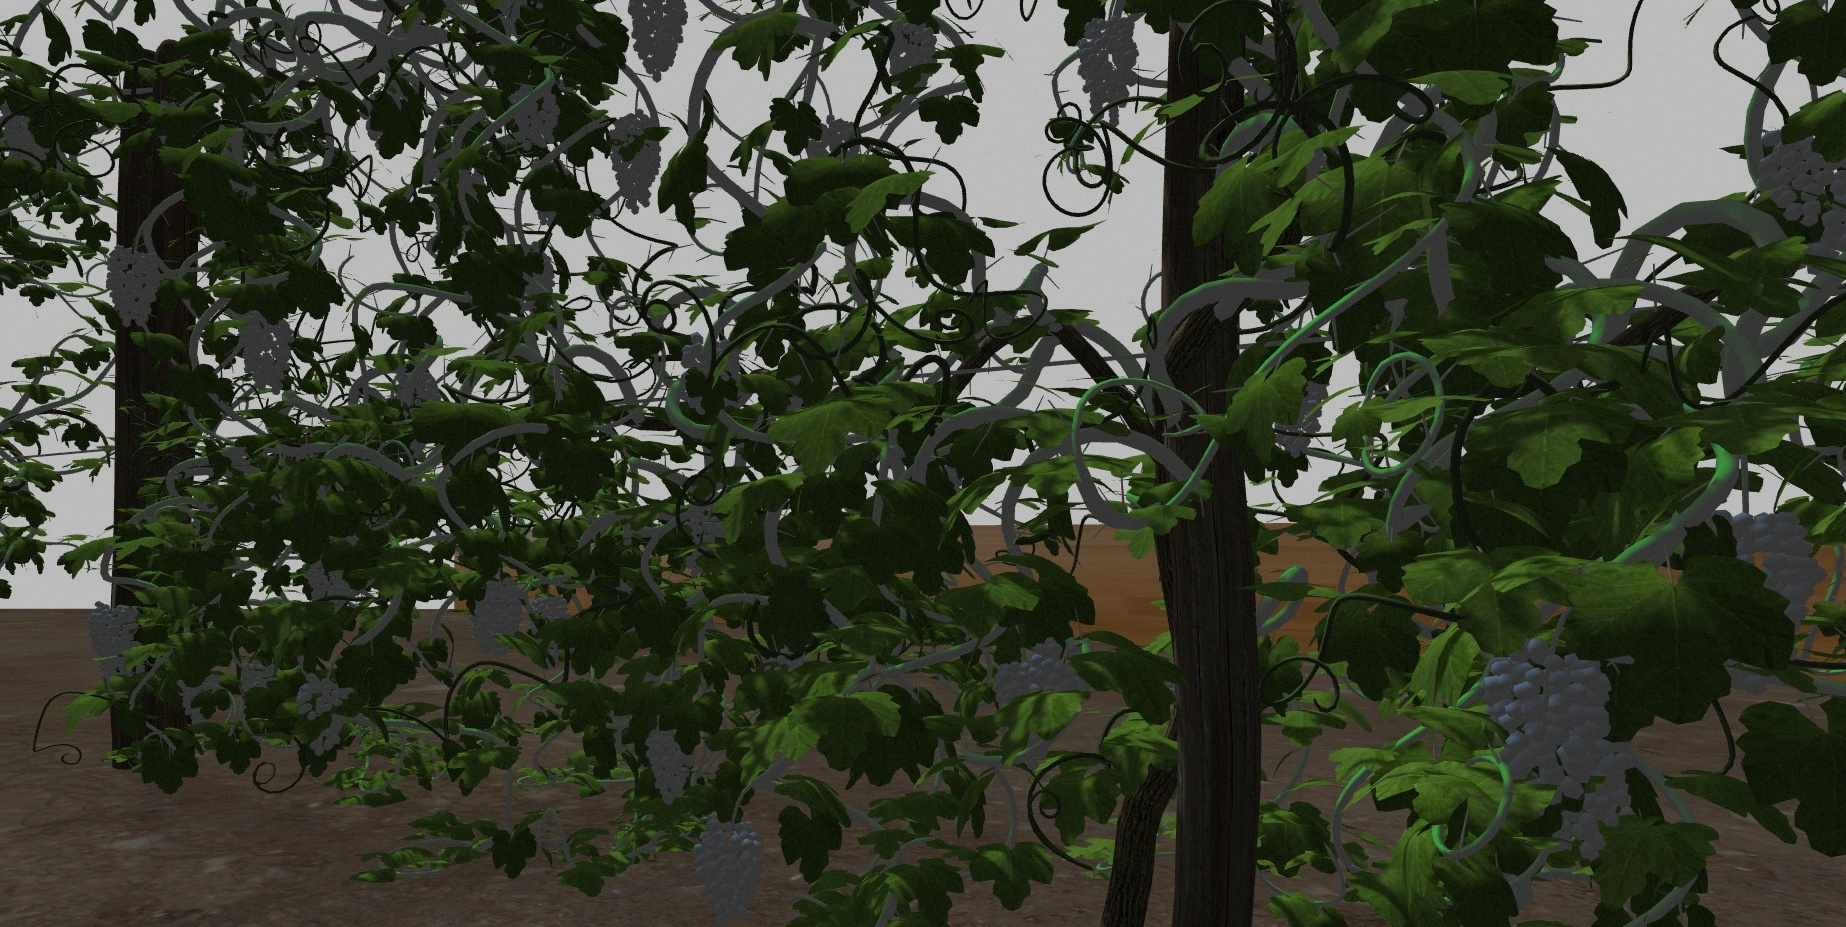grape: (1487, 636, 1566, 787), (997, 638, 1084, 767), (1733, 508, 1826, 624), (1556, 649, 1611, 802), (1566, 743, 1631, 860), (695, 811, 762, 923), (1073, 17, 1140, 125), (1761, 136, 1829, 225), (609, 109, 663, 215), (238, 309, 295, 396), (104, 244, 162, 328), (629, 5, 689, 85), (469, 575, 524, 657), (886, 14, 938, 101), (85, 599, 139, 678), (646, 724, 696, 806), (297, 672, 345, 756), (511, 79, 561, 150)
